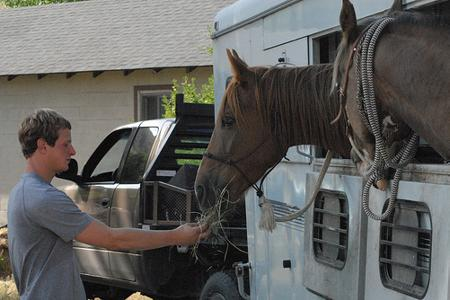person: (9, 108, 212, 300)
